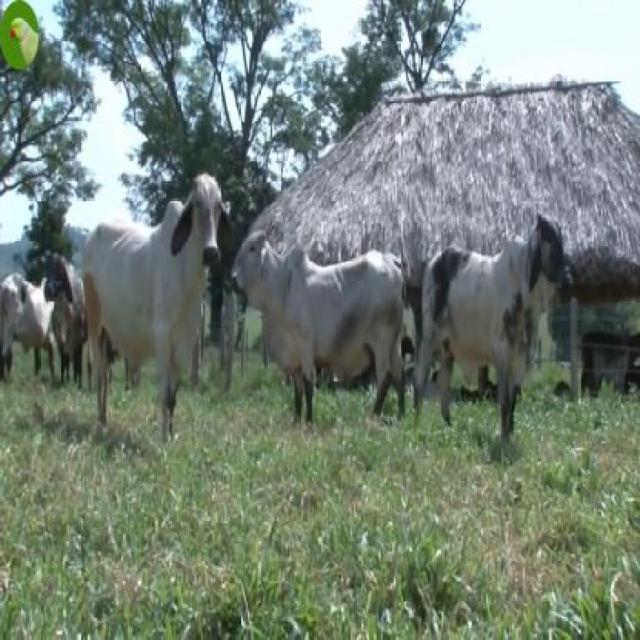Cow: (83, 177, 229, 438)
